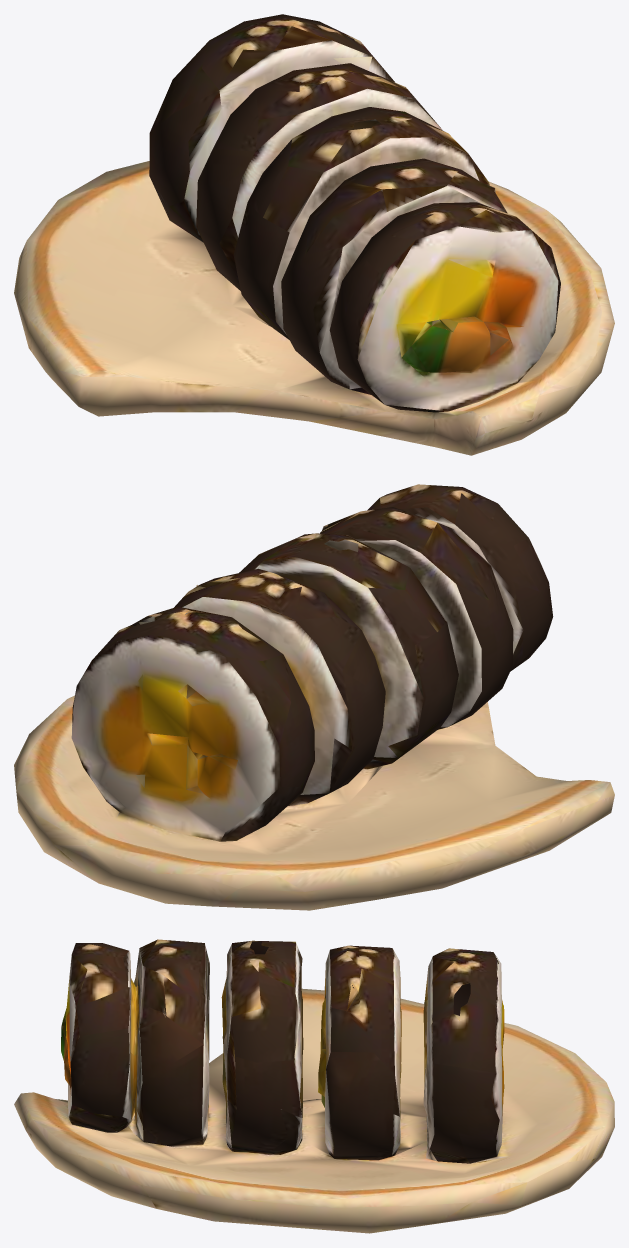
3 renders of one model, top to bottom at view 1: azimuth 30°, elevation 25°; view 2: azimuth 150°, elevation 25°; view 3: azimuth 270°, elevation 25°, orthographic. The views are drawn at different scales.
Visible parts, largest first — view 1: gimbap; view 2: gimbap; view 3: gimbap.
Part boxes in pixels (<box>): gimbap: <box>14,14,614,455</box>; gimbap: <box>14,484,614,910</box>; gimbap: <box>14,939,614,1233</box>.
Size of the model in its own units: 0.1738 by 0.0742 by 0.2007.
Materials: 1 (1 with a texture image).
